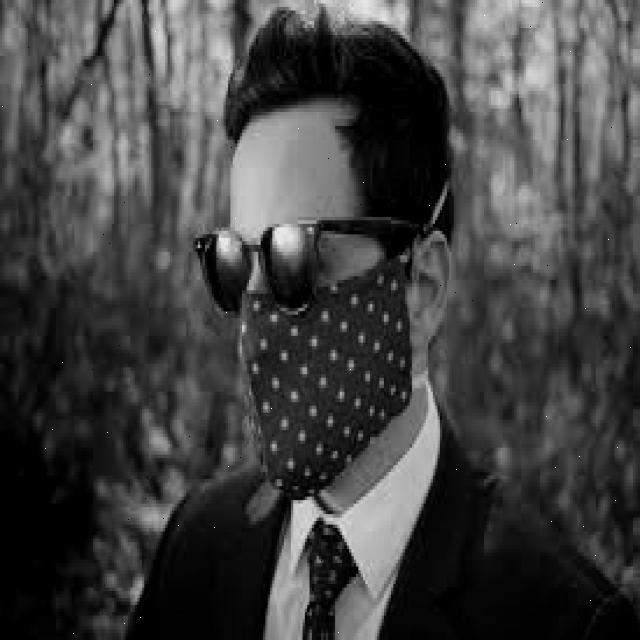fake: (203, 256, 434, 490), (189, 208, 438, 321)
